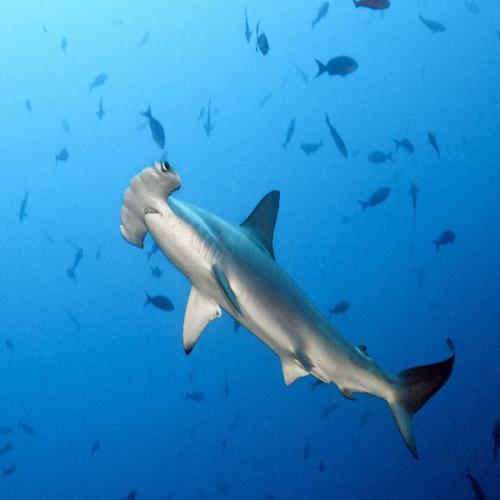shark-endangered: (118, 159, 458, 456)
